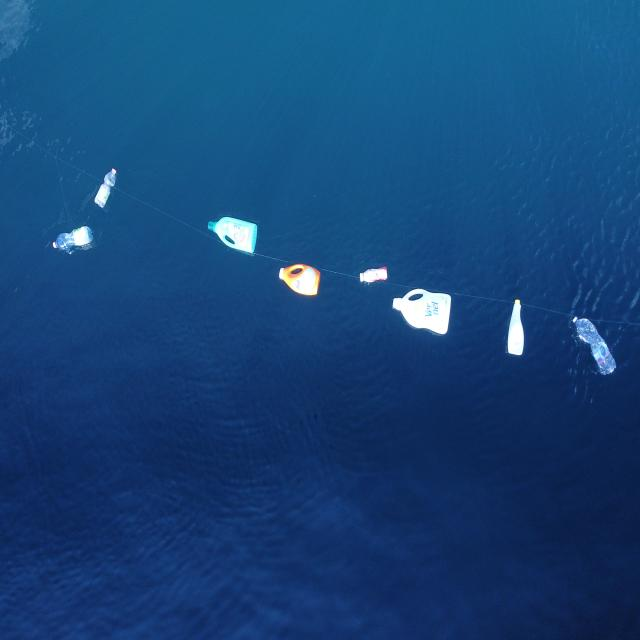bottles: (387, 288, 459, 338), (566, 312, 618, 379), (202, 214, 260, 258), (273, 256, 330, 300), (48, 220, 98, 254), (506, 296, 527, 360), (93, 166, 120, 211), (358, 261, 394, 291)
